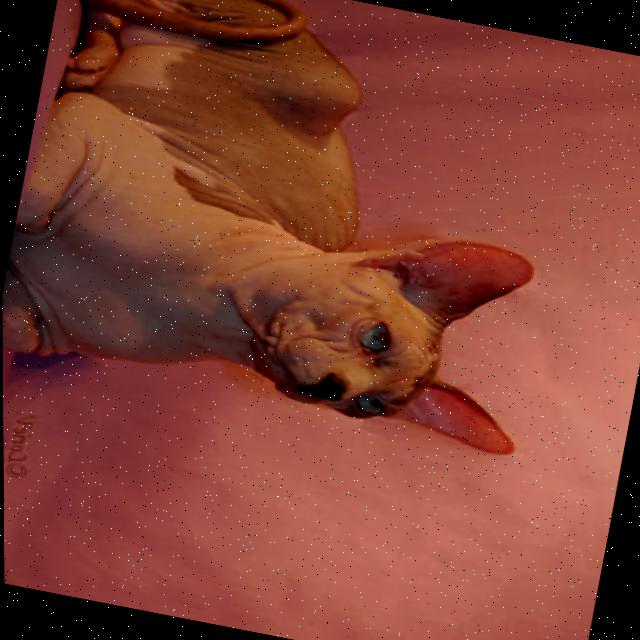Sphynx: (0, 0, 598, 462)
